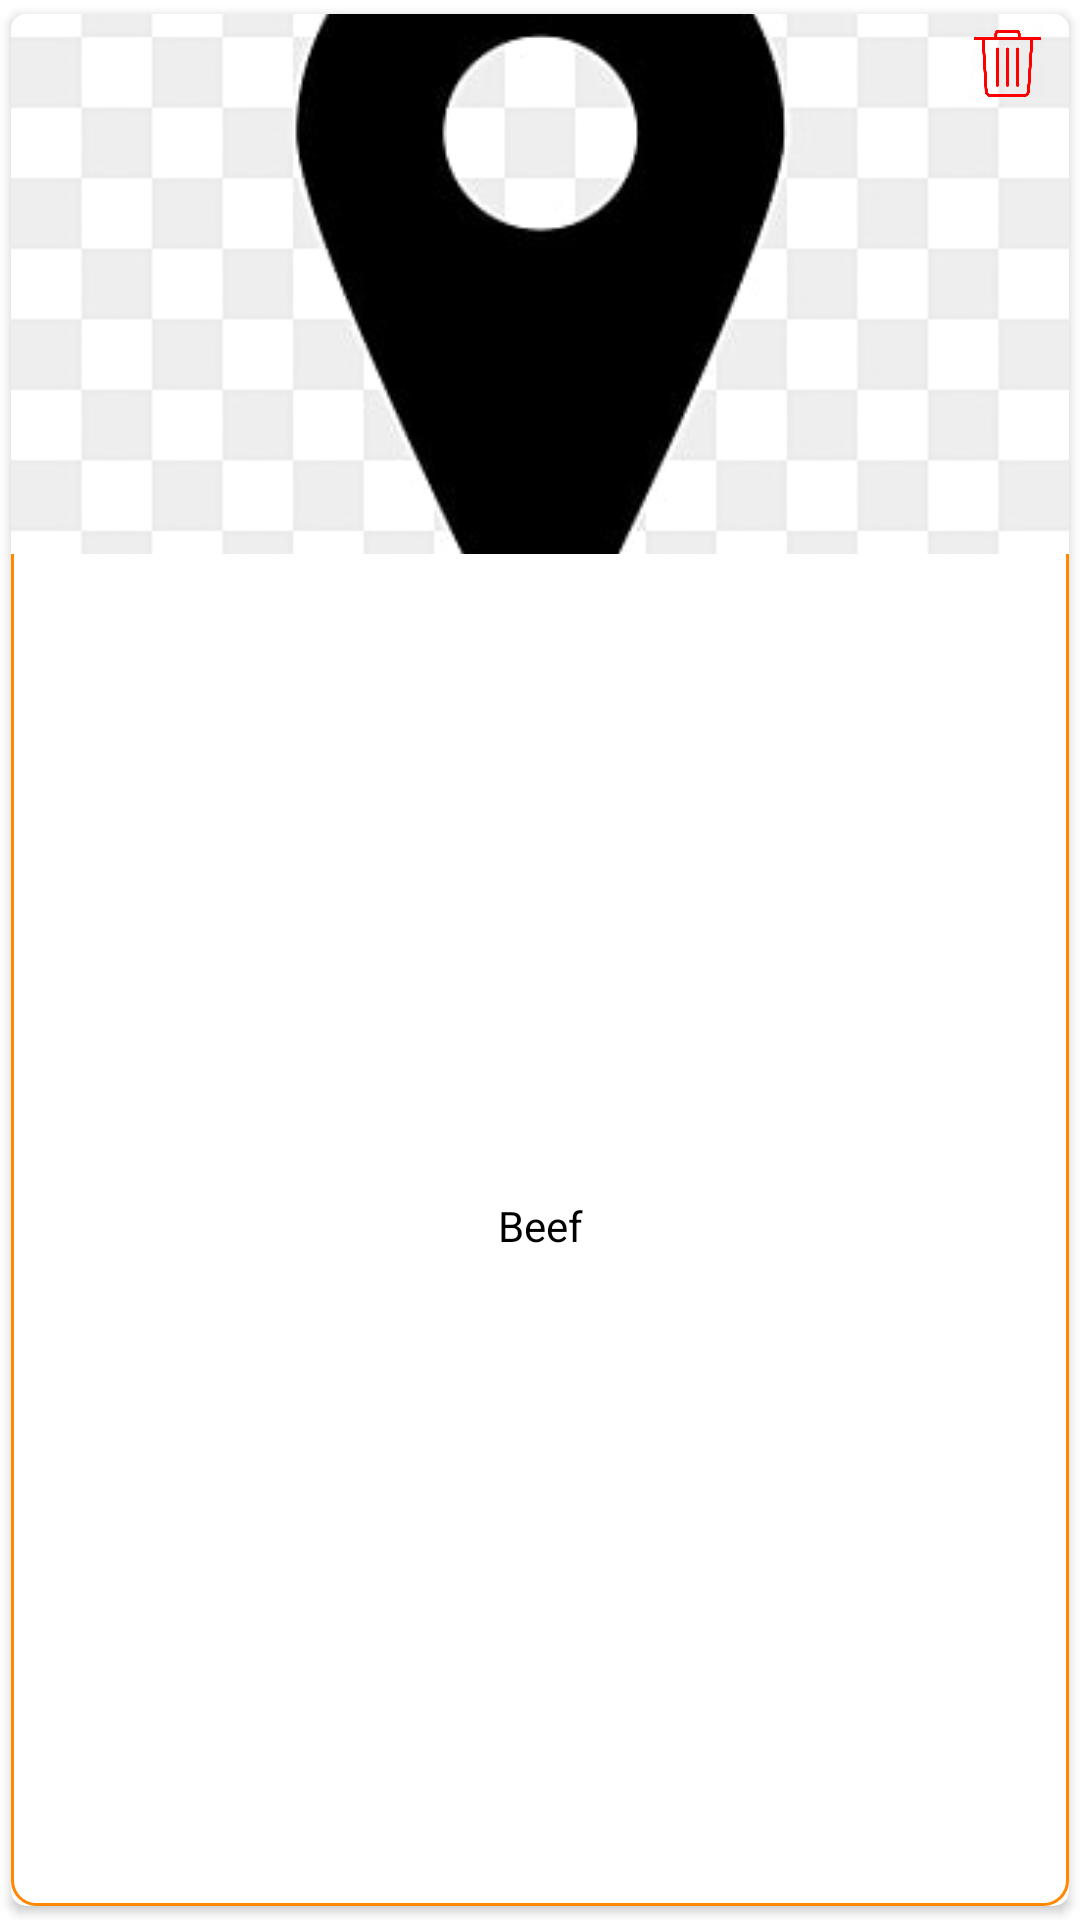

Named icons in this screenshot (1080x1920) and their centers, (x,y):
remove: (1007,63)
